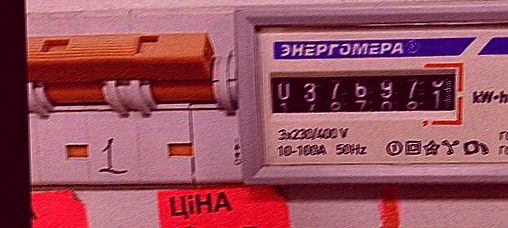0: (275, 78, 292, 99)
1: (431, 87, 443, 109)
3: (302, 79, 317, 103)
6: (354, 76, 368, 97)
7: (328, 75, 342, 100), (405, 75, 419, 99)
9: (379, 76, 393, 98)
screen: (263, 59, 467, 133)
